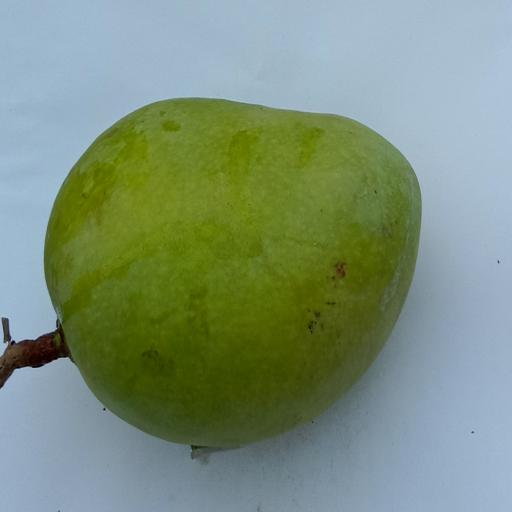mango-unripe: (19, 75, 465, 473)
